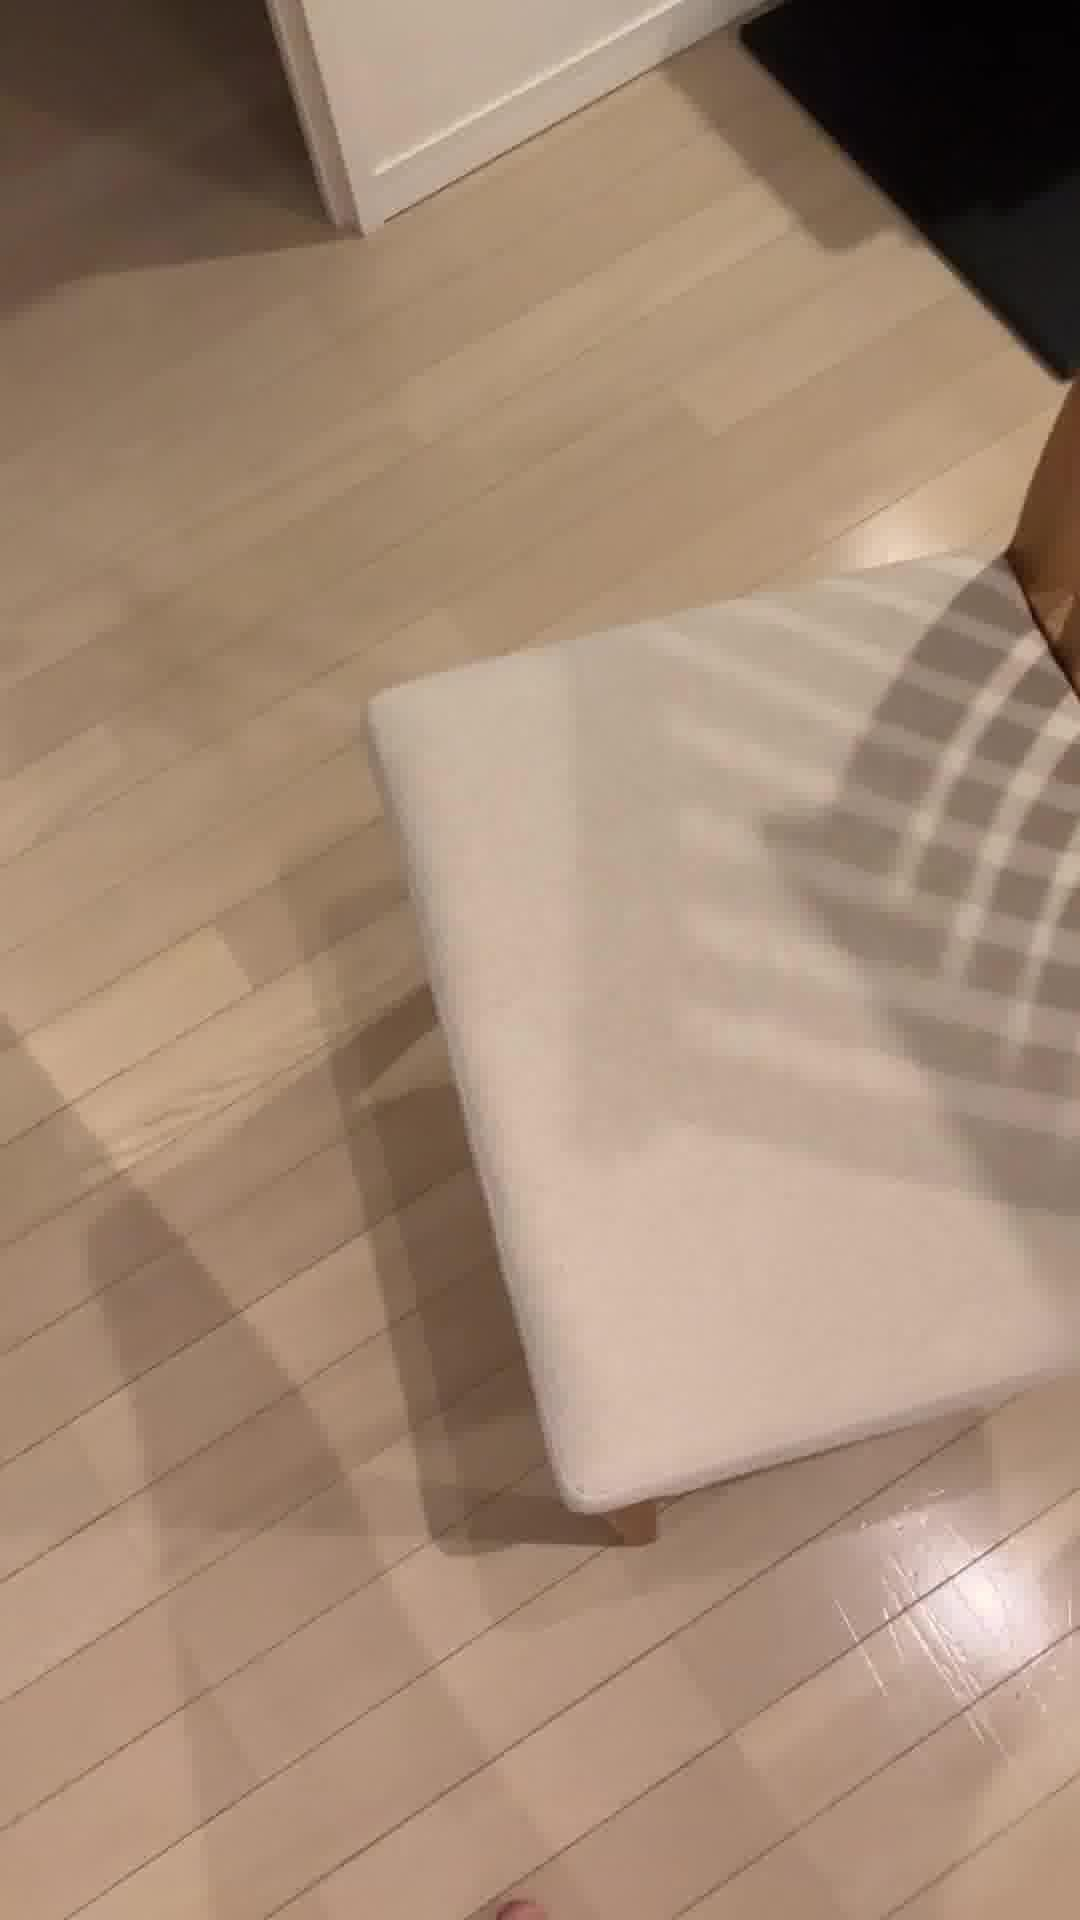takumikan-chair: (359, 360, 1080, 1560)
